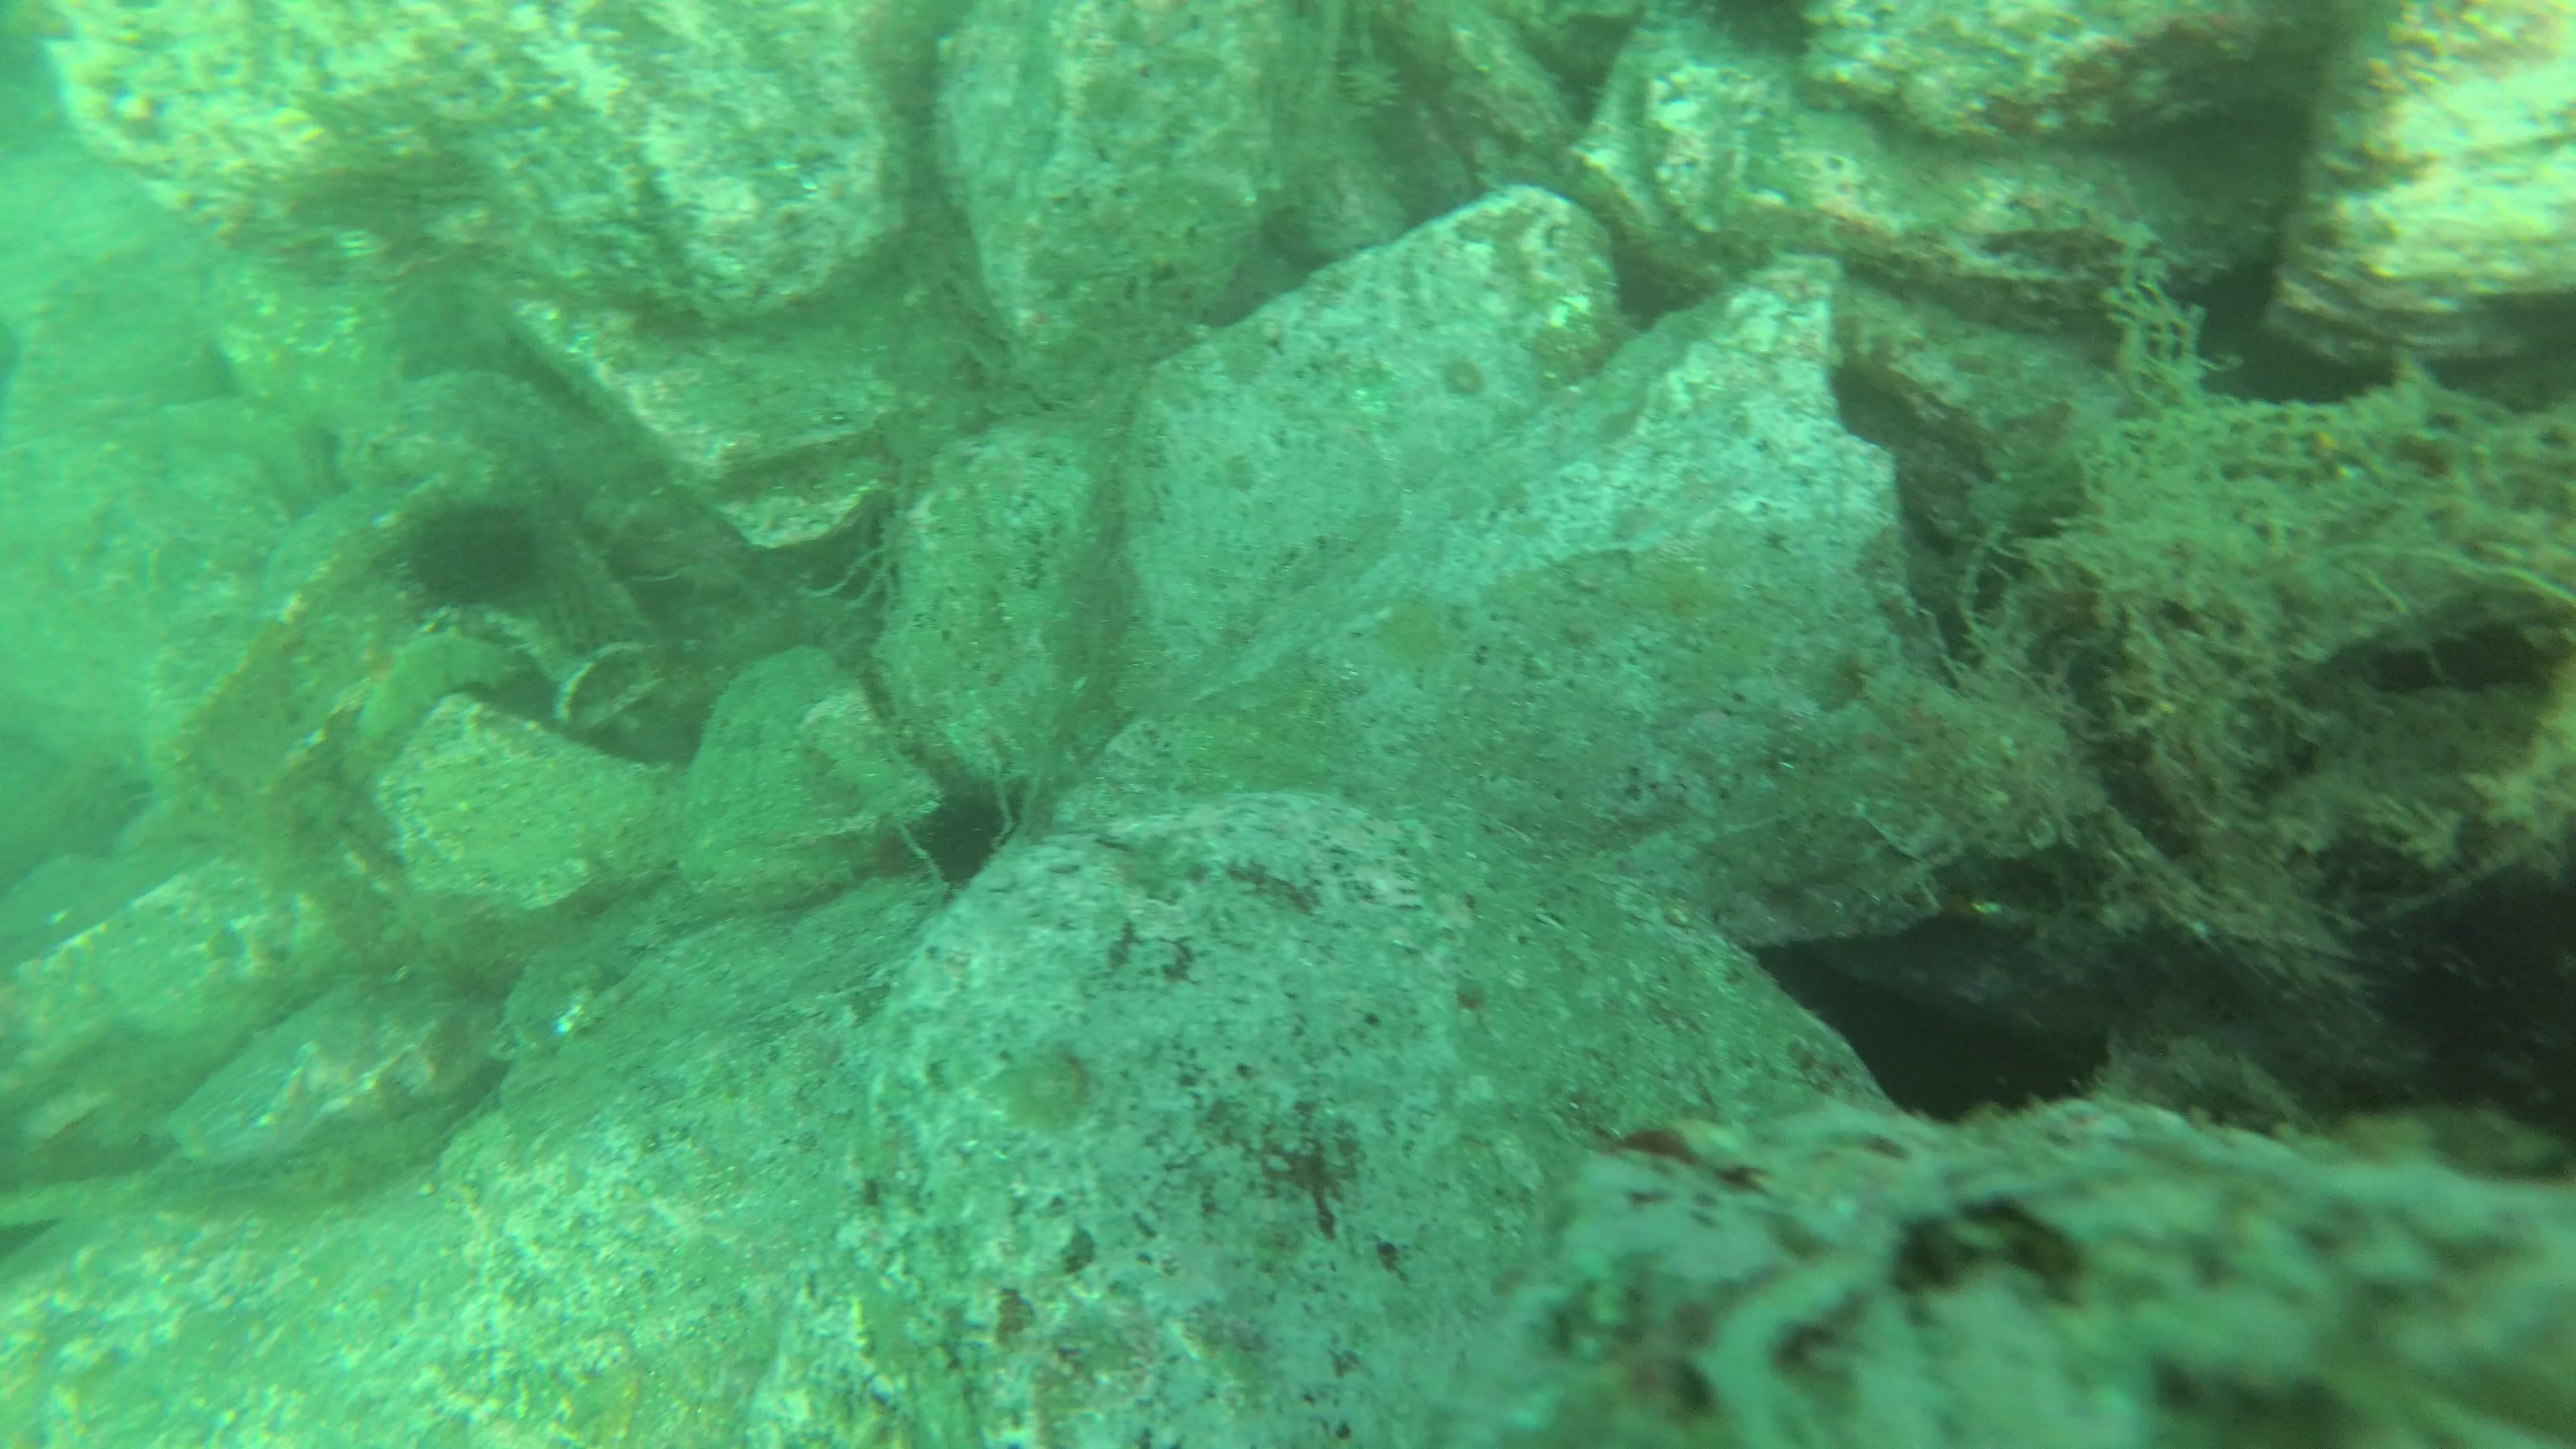echinus: (414, 499, 541, 617)
